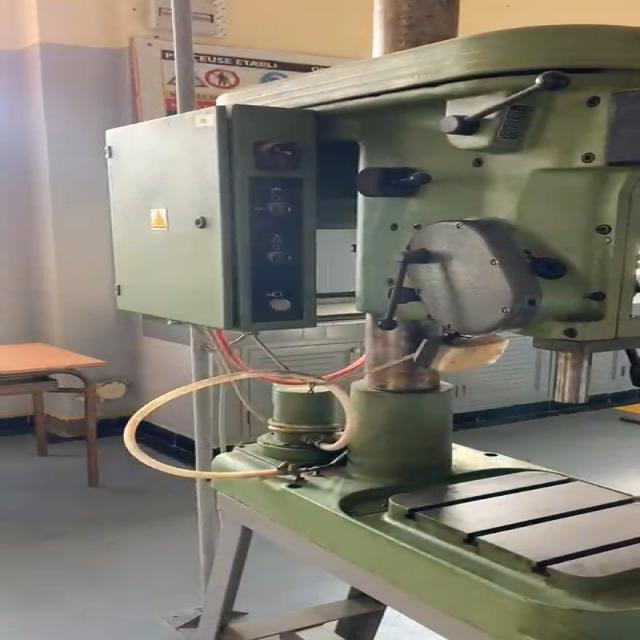perceuse: (105, 26, 640, 640)
